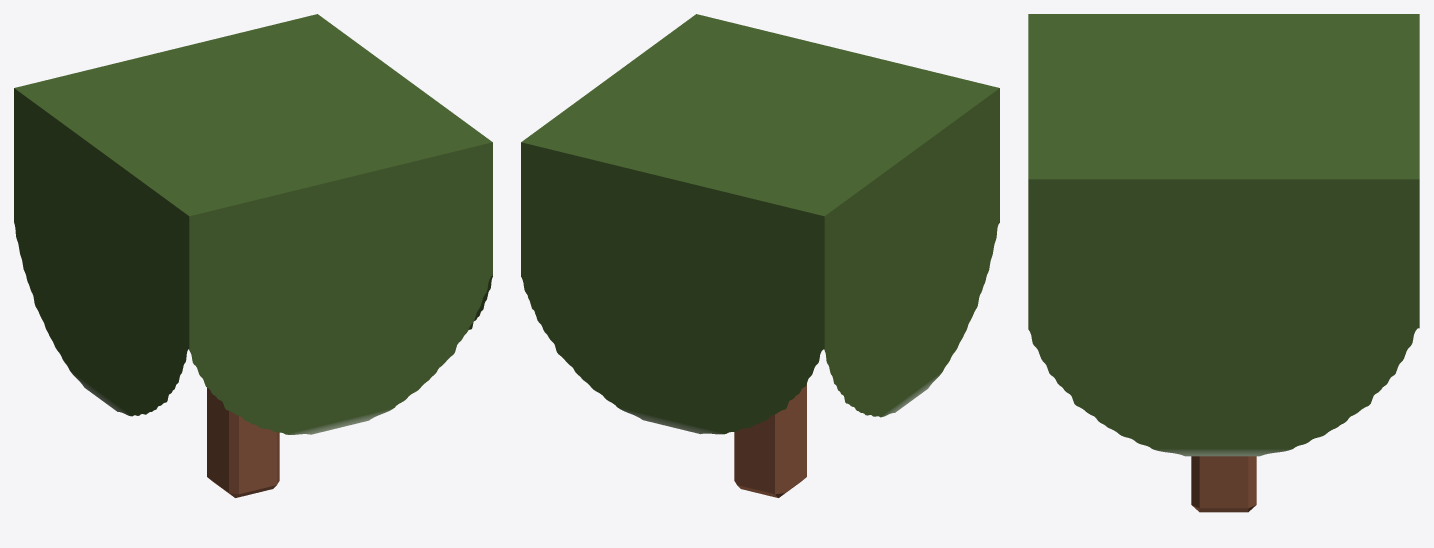
Rendered from Bush 2.fbx.
3 renders of one model, left to right at view 1: azimuth 30°, elevation 25°; view 2: azimuth 150°, elevation 25°; view 3: azimuth 270°, elevation 25°, orthographic. The views are drawn at different scales.
Visible parts, largest first — view 1: Bush_1, Trunk; view 2: Bush_1, Trunk; view 3: Bush_1, Trunk.
Boxes of the visible parts, x1,y1,x2,y2 form: Bush_1: [14, 14, 492, 434]; Trunk: [207, 388, 279, 497]; Bush_1: [521, 14, 999, 434]; Trunk: [734, 384, 806, 497]; Bush_1: [1028, 14, 1419, 456]; Trunk: [1191, 456, 1256, 512].
Size of the model in its own units: 0.6 by 0.695 by 0.6.
